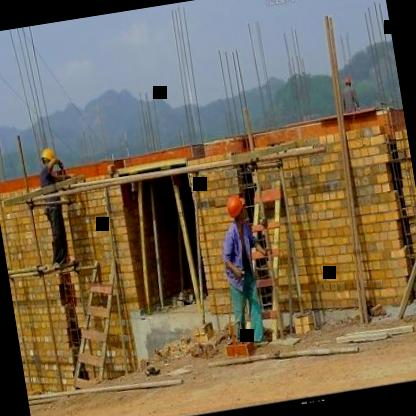helmet: (223, 193, 251, 226), (36, 146, 56, 173), (343, 73, 354, 88)
